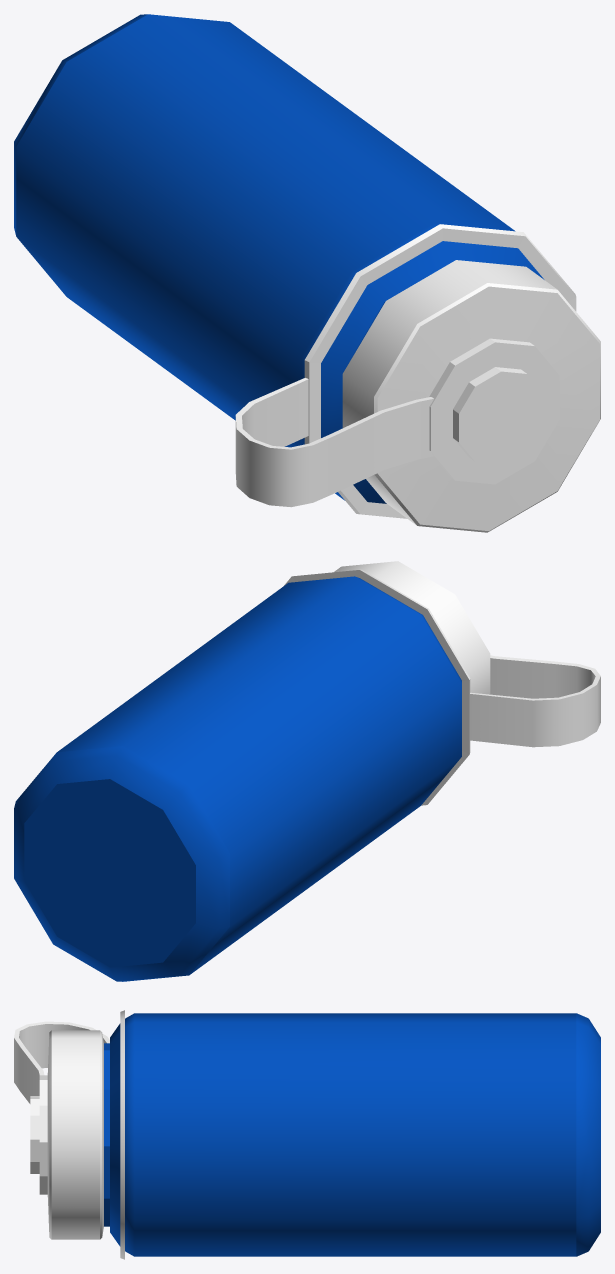
File: WaterBottle_01.obj
3 renders of one model, top to bottom at view 1: azimuth 30°, elevation 25°; view 2: azimuth 150°, elevation 25°; view 3: azimuth 270°, elevation 25°, orthographic. The views are drawn at different scales.
Parts seen in each view (by area): view 1: pasted__polySurface11 group; view 2: pasted__polySurface11 group; view 3: pasted__polySurface11 group.
Boxes of the visible parts, x1,y1,x2,y2 form: pasted__polySurface11 group: (14, 14, 600, 532); pasted__polySurface11 group: (14, 561, 600, 981); pasted__polySurface11 group: (14, 1010, 600, 1259).
Size of the model in its own units: 39.36 by 29.74 by 68.62.
